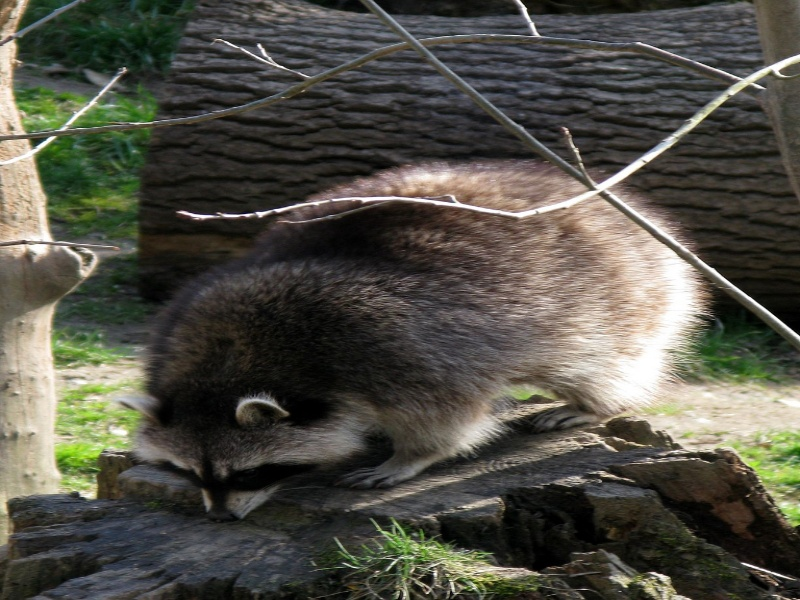raccoon: (112, 155, 711, 524)
